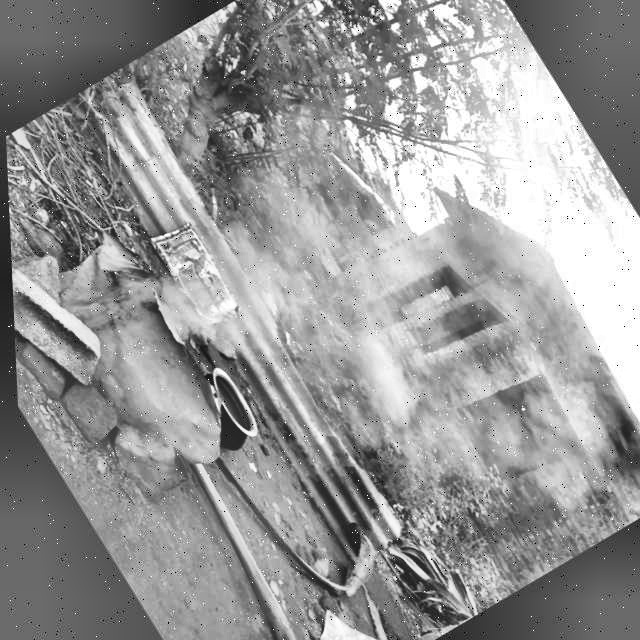Smoke: (108, 59, 640, 636)
